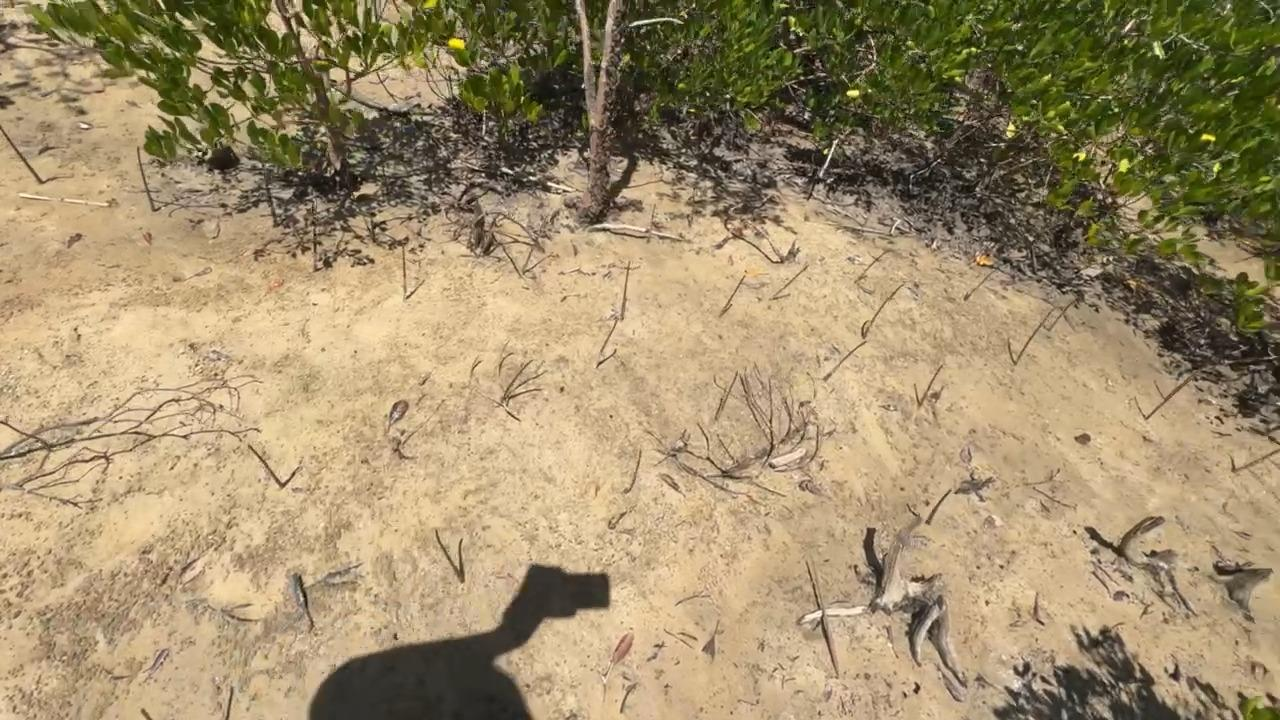Tree: (804, 561, 840, 679), (0, 122, 47, 188), (862, 282, 906, 339), (1012, 308, 1052, 365), (245, 440, 290, 487), (1146, 379, 1190, 425), (823, 341, 868, 383), (712, 369, 740, 425), (853, 248, 894, 286), (769, 265, 811, 300), (135, 146, 157, 211), (718, 274, 747, 319), (915, 362, 944, 407), (1161, 369, 1201, 399), (1231, 449, 1280, 473), (963, 269, 999, 300), (925, 487, 952, 525), (617, 259, 631, 321), (1047, 299, 1074, 331), (597, 316, 619, 352), (523, 251, 560, 272), (624, 450, 641, 494), (265, 171, 277, 228), (399, 239, 408, 300), (646, 200, 657, 242), (595, 348, 618, 368), (457, 539, 467, 582), (221, 685, 233, 720), (312, 225, 319, 273)
